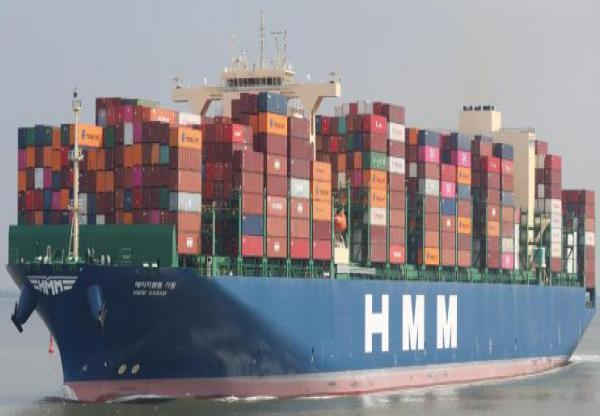Container Ship: (5, 14, 597, 404)
